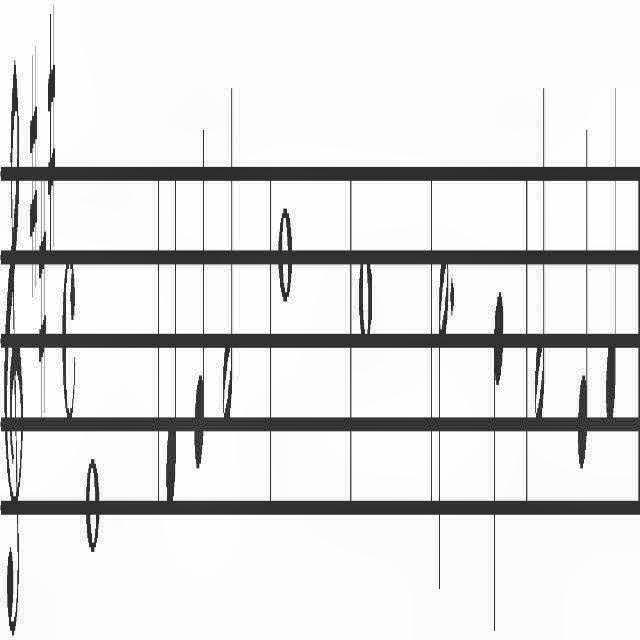Bass-clef: (3, 46, 24, 634)
Diez: (38, 160, 46, 428), (30, 46, 38, 304), (48, 7, 56, 243)
Full-note: (84, 450, 100, 552), (278, 197, 292, 311), (358, 256, 372, 350)
Half-note: (222, 71, 234, 439), (534, 72, 546, 436), (438, 246, 448, 610)
Quarter-note: (166, 160, 178, 518), (194, 118, 206, 470), (493, 293, 505, 639), (605, 82, 617, 428), (578, 136, 590, 474)
